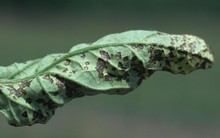damaged_tomato: (1, 24, 212, 130)
